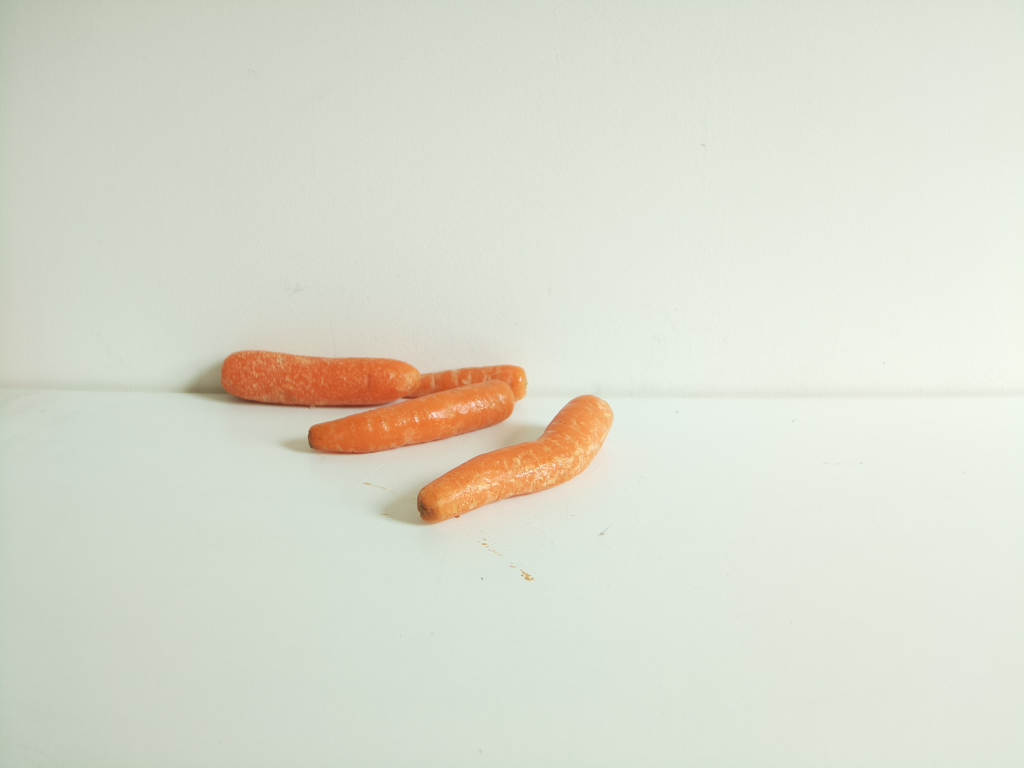carrot: (415, 389, 619, 528), (212, 345, 536, 410), (303, 377, 515, 459)
